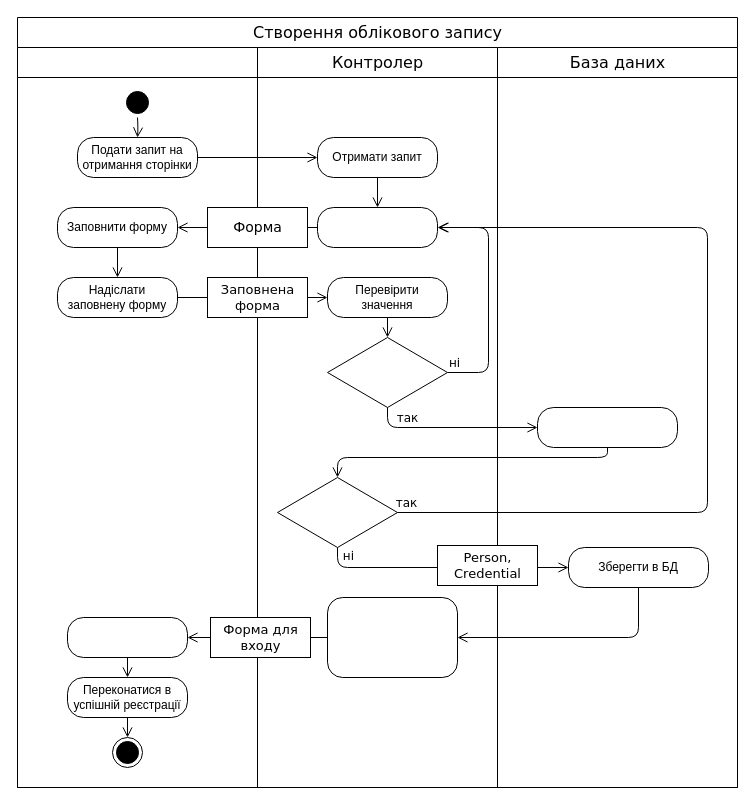
Image size: 755x805. Some labels were removed from this diagram. The box of each missing label's shape, as (x1, y1, x2, y2) in pixels:
знайдено?: (276, 476, 398, 548)
значення правильні?: (326, 336, 448, 408)
Користувач: (16, 46, 258, 788)
Надіслати форму для входу з повідомленням про успішне створення обл. запису: (326, 596, 458, 678)
Надіслати форму для реєстрації: (316, 206, 438, 248)
Отримати форму для входу: (66, 616, 188, 658)
Шукати записи з таким номером тлф.: (536, 406, 678, 448)
